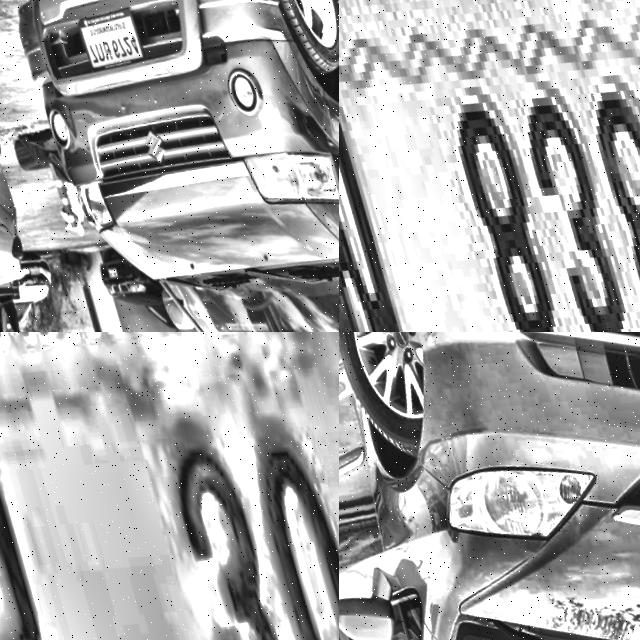license-plate: (0, 332, 339, 640), (339, 0, 640, 332), (67, 0, 143, 73), (94, 259, 111, 278), (17, 260, 30, 274)
